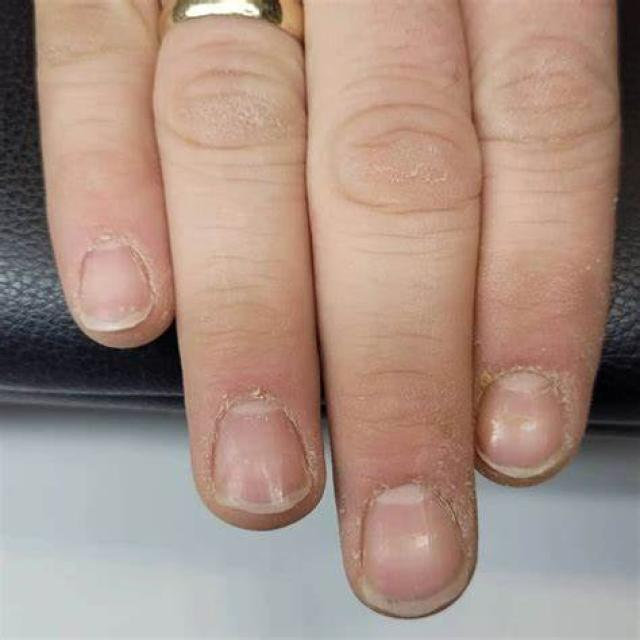Fingernail: (363, 483, 468, 617), (213, 400, 312, 514), (476, 371, 569, 479), (81, 247, 155, 331)
